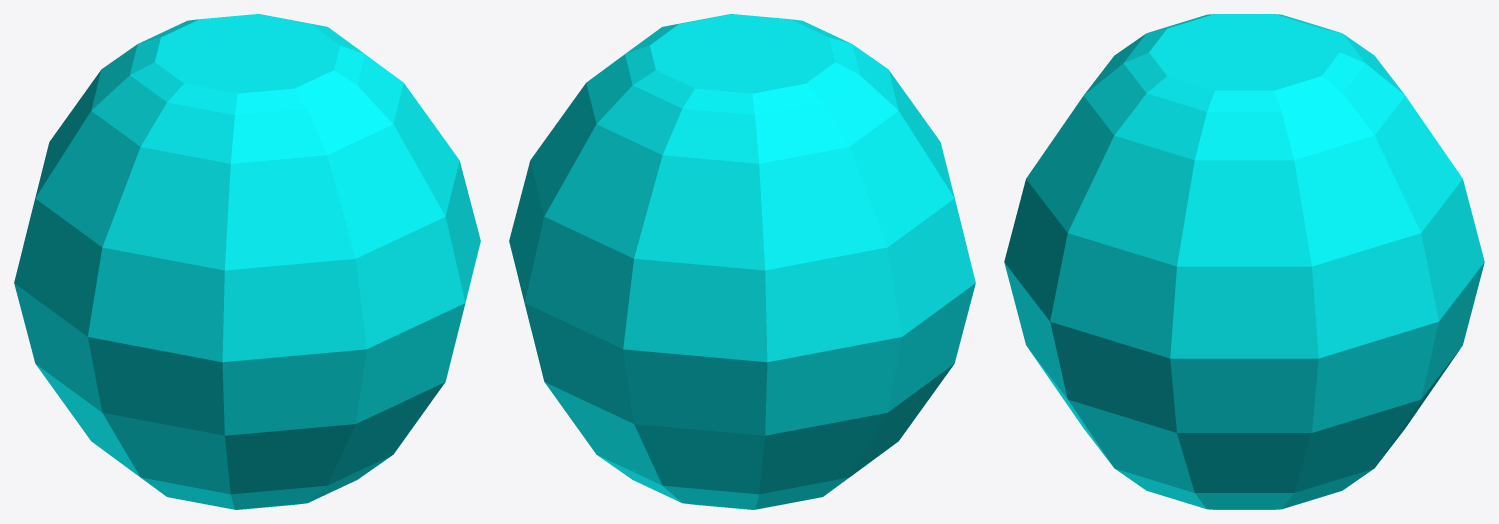
File: TB - Collider 5.fbx
The picture shows the model from 3 angles, left to right: view 1: azimuth 30°, elevation 25°; view 2: azimuth 150°, elevation 25°; view 3: azimuth 270°, elevation 25°; orthographic projection.
Parts seen in each view (by area): view 1: TechnoBall _Collider; view 2: TechnoBall _Collider; view 3: TechnoBall _Collider.
Part boxes in pixels (<box>): TechnoBall _Collider: <box>14,14,480,509</box>; TechnoBall _Collider: <box>509,14,975,509</box>; TechnoBall _Collider: <box>1004,14,1484,509</box>.
Size of the model in its own units: 97.66 by 98.84 by 103.
